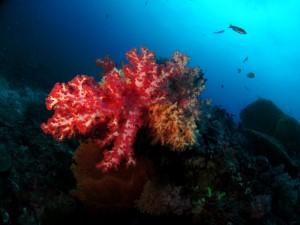bleached_corals: (27, 30, 224, 190)
